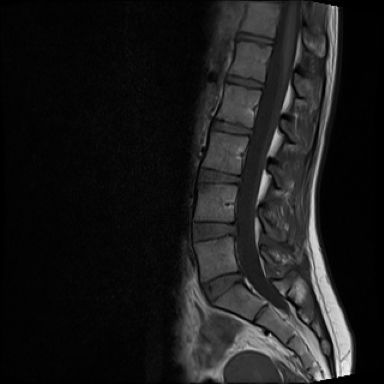Normal IVD: (196, 263, 246, 310), (187, 215, 242, 248), (208, 113, 257, 140), (195, 165, 246, 189), (222, 70, 268, 94), (231, 28, 277, 48)
